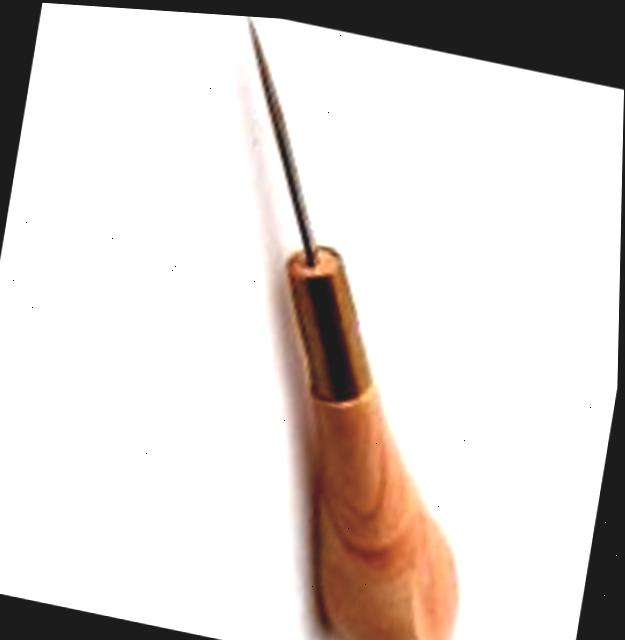ice pick: (137, 8, 559, 640)
